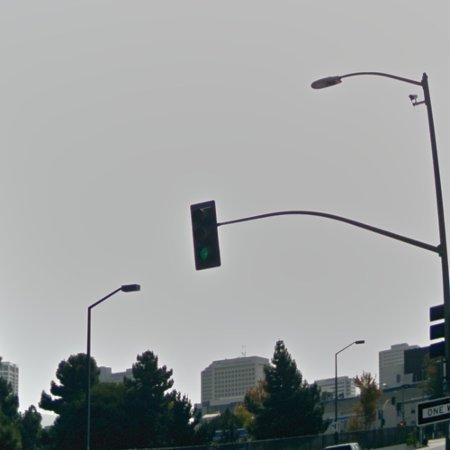traffic lights: (190, 199, 224, 271)
